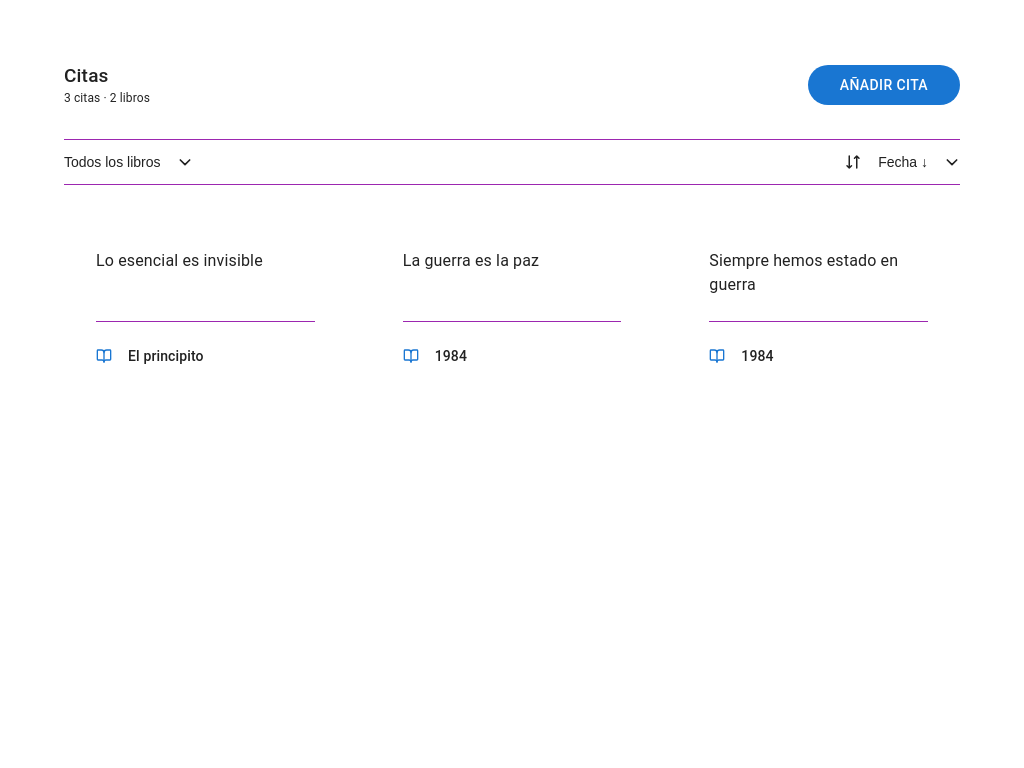
Test: Given the quotes page › When the user has few books with quotes › Then the filter still has the search box and lists them all
Click the button "Todos los libros" at (128, 162), box 48,140 -> 208,184
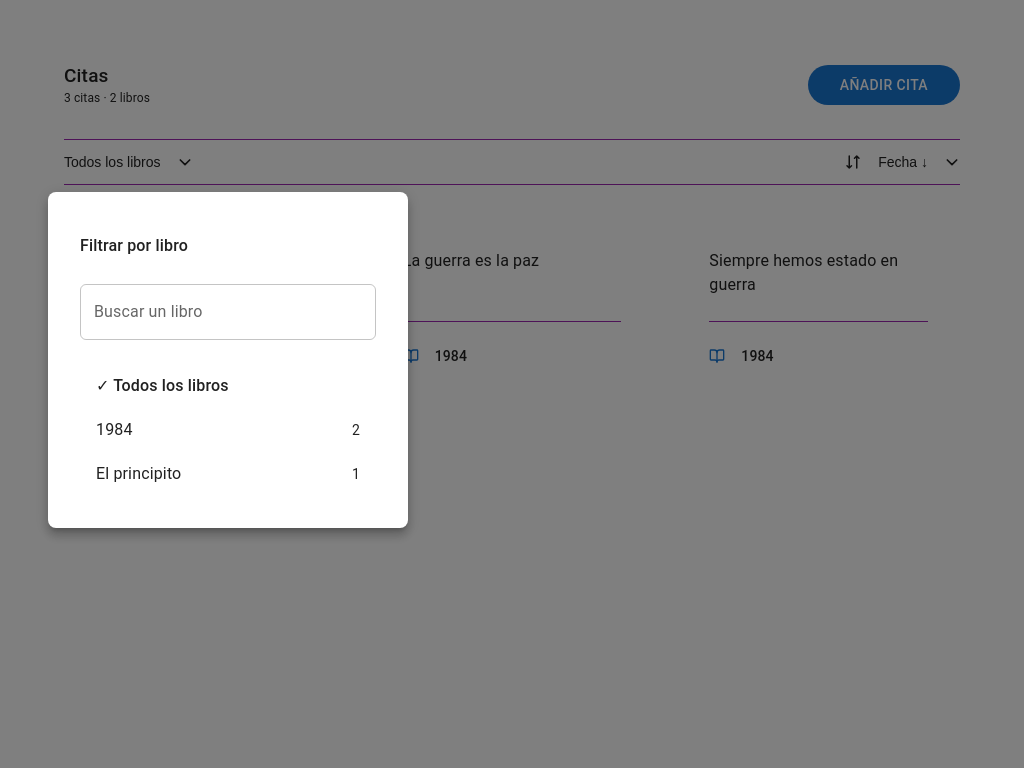
Result: the field labelled "Buscar un libro" is shown at 80,284 -> 376,340
Result: the button "1984 2" is shown at 80,408 -> 376,452
Result: the button "El principito 1" is shown at 80,452 -> 376,496
